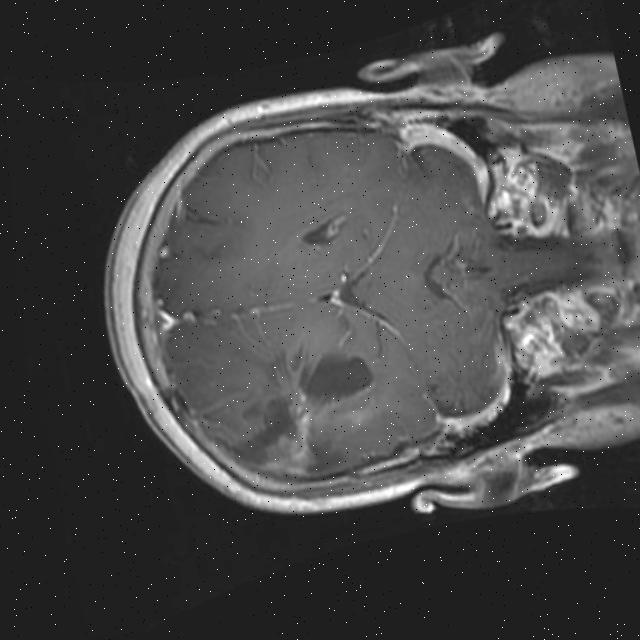Glioma: (242, 388, 325, 482)
